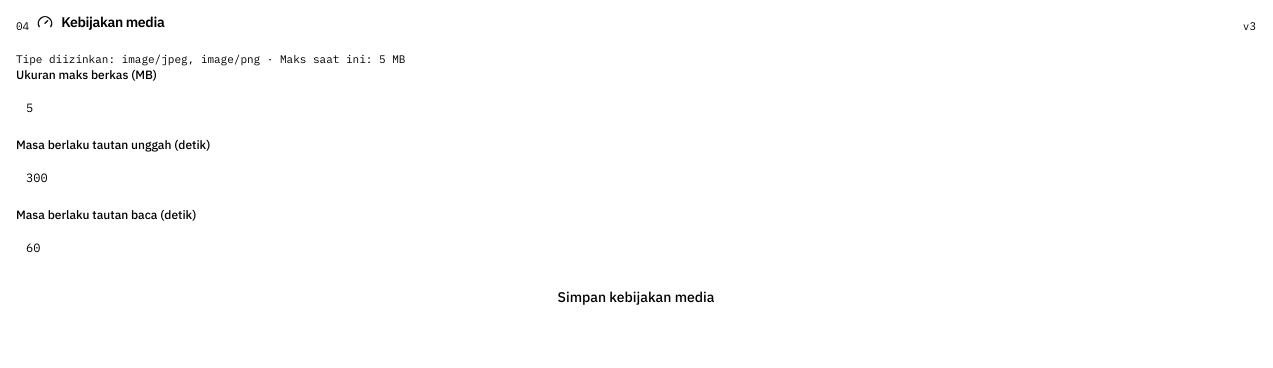
Seksi kebijakan media › menolak nilai yang tidak positif tanpa memanggil API
The image size is (1273, 368).
Expected: the button "Simpan kebijakan media" is shown, [16, 279, 1256, 315]
Replace the text in the number field labelled "Ukuran maks berkas (MB)" with "-5": [636, 107] box [16, 89, 1256, 125]
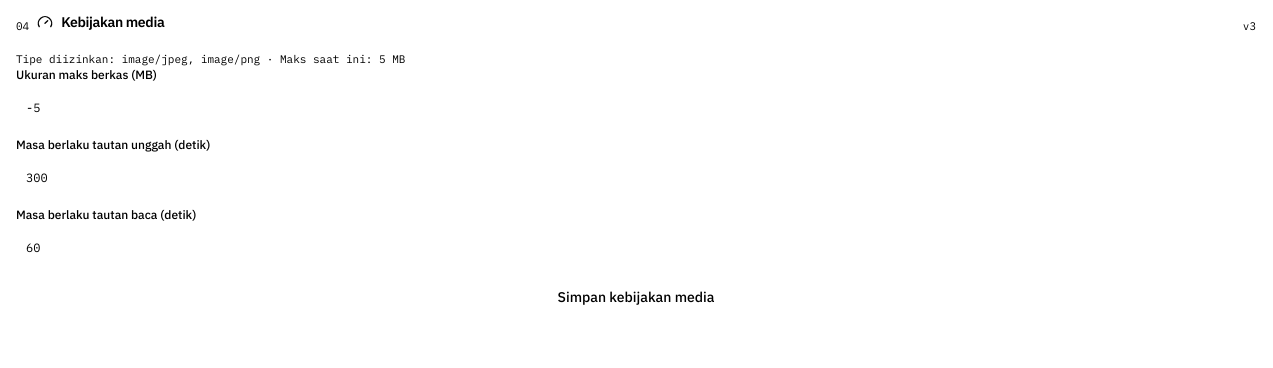
Submit the form named "Ukuran maks berkas (MB)"
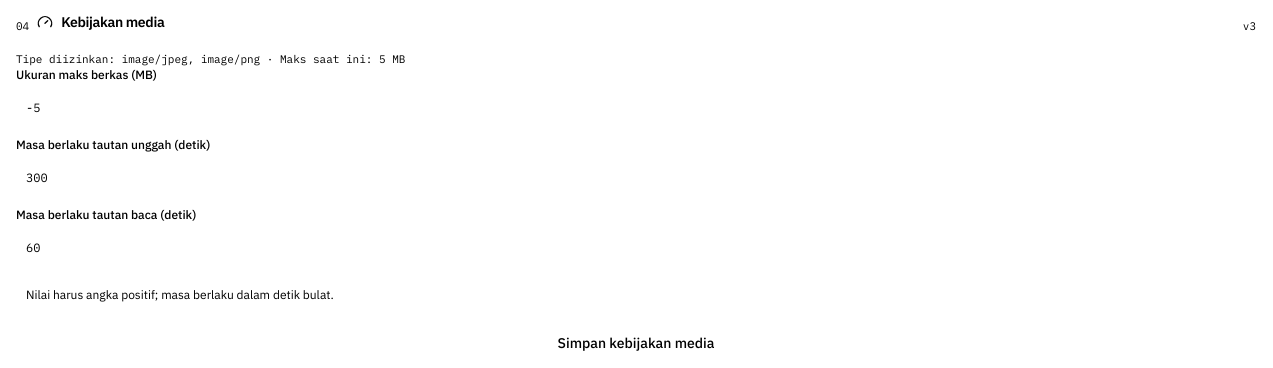
Expected: the text "Nilai harus angka positif; masa berlaku dalam detik bulat." is shown, [26, 287, 334, 302]
